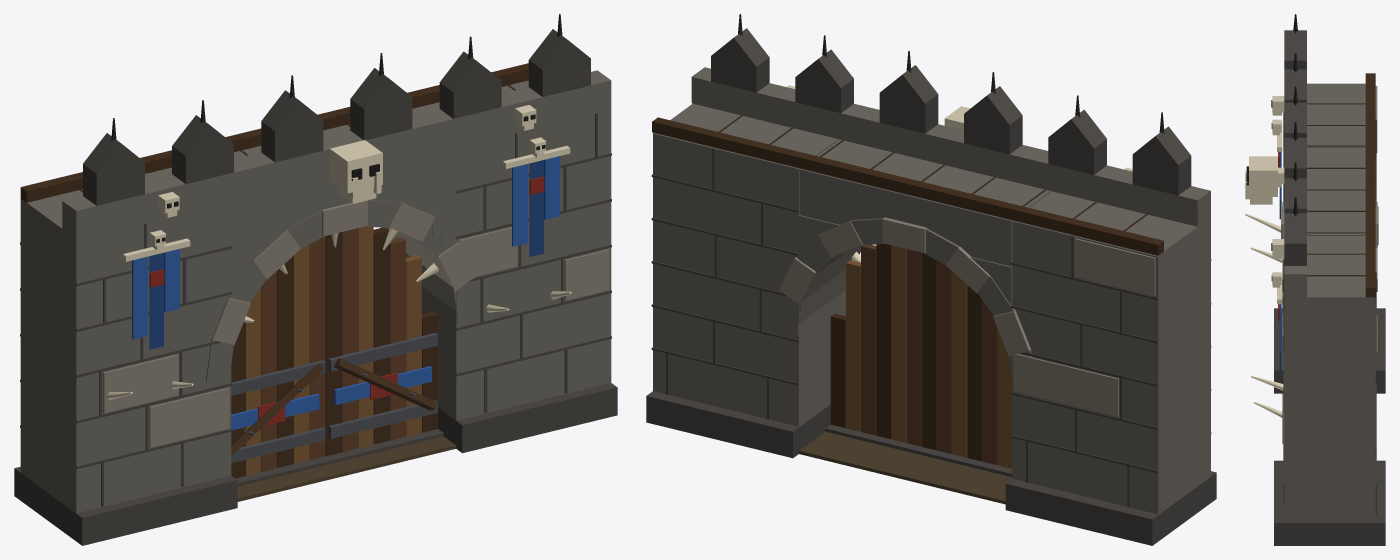
File: orc-stone-gate.glb
3 renders of one model, left to right at view 1: azimuth 30°, elevation 25°; view 2: azimuth 150°, elevation 25°; view 3: azimuth 270°, elevation 25°, orthographic. The views are drawn at different scales.
Visible parts, largest first — view 1: orc-stone-gate; view 2: orc-stone-gate; view 3: orc-stone-gate.
Boxes of the visible parts, box(x1,y1,x2,y2) form: orc-stone-gate: box(14, 14, 617, 545); orc-stone-gate: box(646, 14, 1216, 545); orc-stone-gate: box(1245, 14, 1385, 545).
Size of the model in its own units: 10 by 7.27 by 2.77.
1 material, 1 textured.
